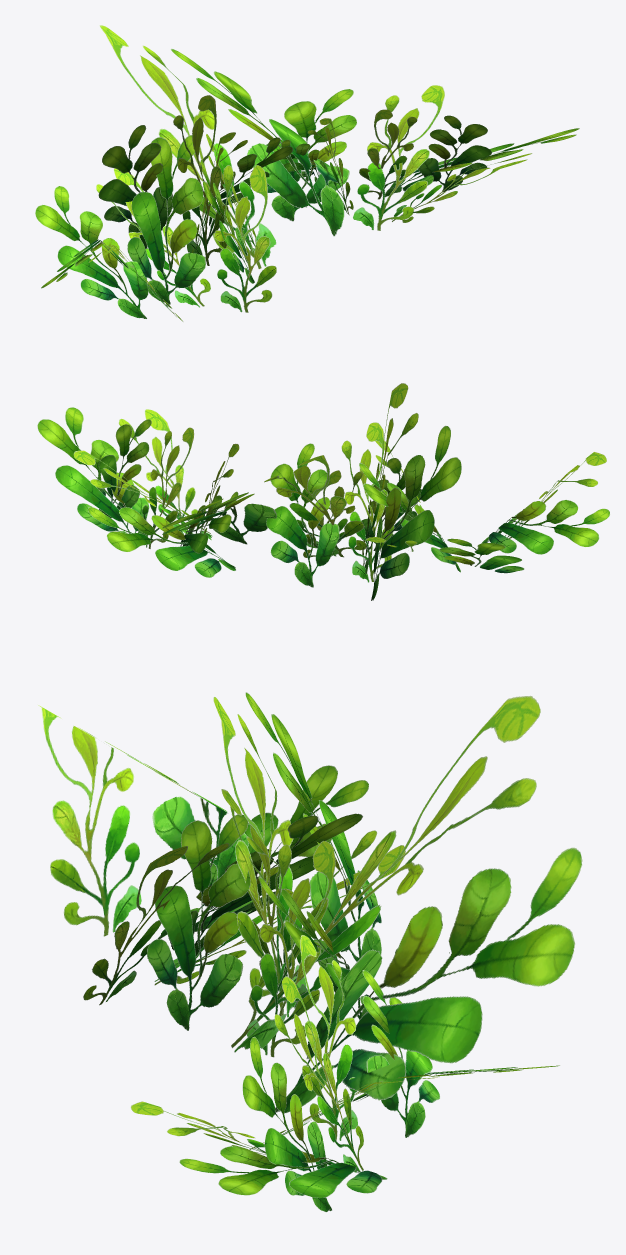
File: grass_01.FBX
3 renders of one model, top to bottom at view 1: azimuth 30°, elevation 25°; view 2: azimuth 150°, elevation 25°; view 3: azimuth 270°, elevation 25°, orthographic. The views are drawn at different scales.
Visible parts, largest first — view 1: grass_01; view 2: grass_01; view 3: grass_01.
Boxes of the visible parts, box(x1,y1,x2,y2) form: grass_01: box(35, 25, 579, 321); grass_01: box(37, 383, 610, 600); grass_01: box(38, 692, 582, 1212).
Size of the model in its own units: 739 by 242 by 399.
Materials: 1 (1 with a texture image).
